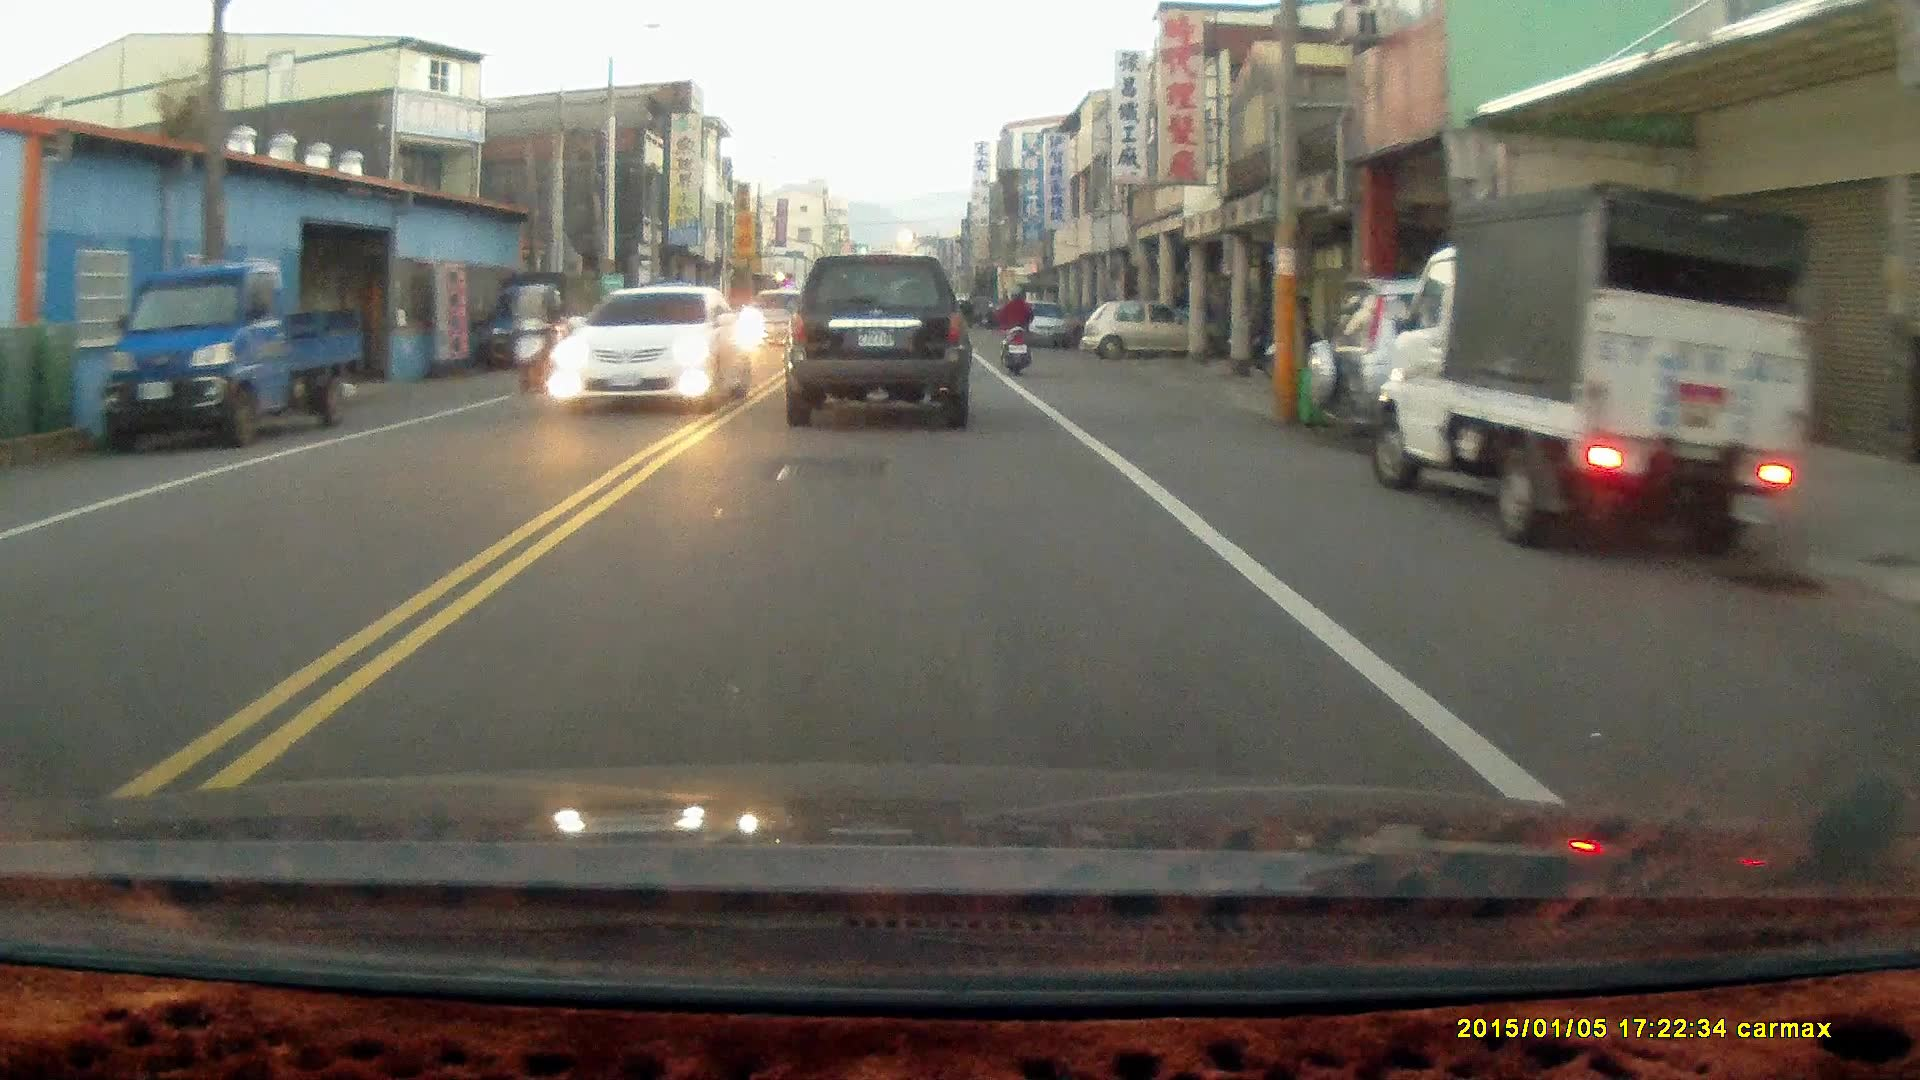rider: (505, 283, 562, 392), (996, 278, 1033, 373)
vehicle: (1373, 177, 1822, 565), (1307, 276, 1711, 445), (82, 262, 367, 454), (782, 249, 978, 428), (545, 283, 757, 412), (478, 271, 603, 373), (1082, 297, 1191, 357)
